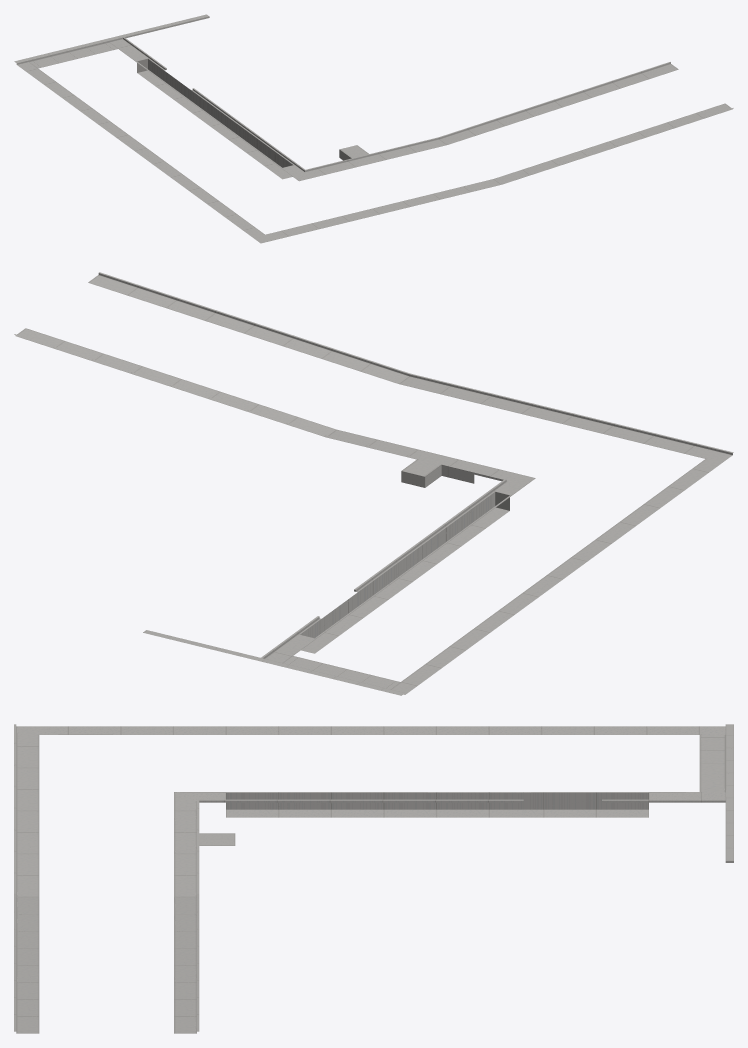
Rendered from kd_stage_135ded_1_7_exterior.glb.
3 renders of one model, top to bottom at view 1: azimuth 30°, elevation 25°; view 2: azimuth 150°, elevation 25°; view 3: azimuth 270°, elevation 25°, orthographic. The views are drawn at different scales.
Visible parts, largest first — view 1: kd_stage_135ded_1_7_exterior; view 2: kd_stage_135ded_1_7_exterior; view 3: kd_stage_135ded_1_7_exterior.
Boxes of the visible parts, x1,y1,x2,y2 form: kd_stage_135ded_1_7_exterior: [14, 14, 733, 243]; kd_stage_135ded_1_7_exterior: [14, 272, 733, 695]; kd_stage_135ded_1_7_exterior: [14, 724, 733, 1033].
Bounding box in the file's own units: 17.12 × 1.11 × 15.54.
Materials: 1 (1 with a texture image).
